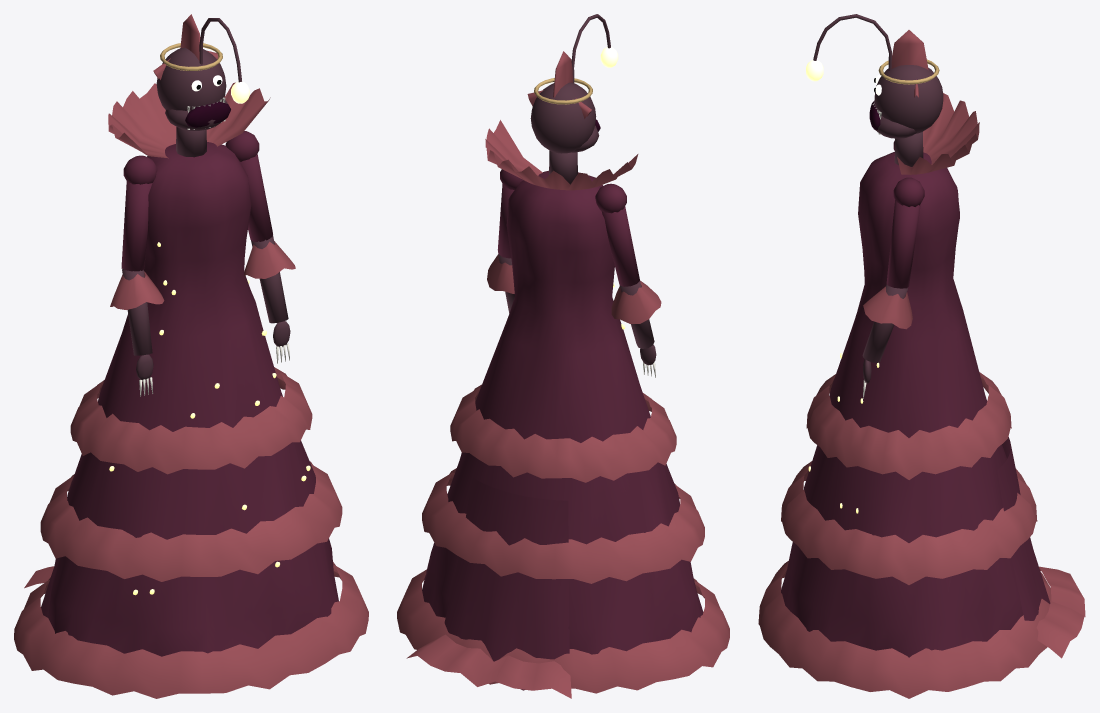
File: angler_queen.glb
The picture shows the model from 3 angles, left to right: view 1: azimuth 30°, elevation 25°; view 2: azimuth 150°, elevation 25°; view 3: azimuth 270°, elevation 25°; orthographic projection. The views are drawn at different scales.
Parts seen in each view (by area): view 1: Gown, Angler_Root_FinMembrane, Head_DeepSkin, ArmA_EelSkin, ArmB_EelSkin, ArmA_DeepSkin, ArmB_DeepSkin, SleeveFinArmA, SleeveFinArmB, Mouth, Head_FinMembrane; view 2: Gown, Angler_Root_FinMembrane, EelTrain, Head_DeepSkin, TrainFin, ArmA_EelSkin, SleeveFinArmA, ArmB_EelSkin, ArmA_DeepSkin, Head_FinMembrane, SleeveFinArmB; view 3: Gown, Angler_Root_FinMembrane, Head_DeepSkin, TrainFin, ArmB_EelSkin, EelTrain, SleeveFinArmB, ArmB_DeepSkin, Head_FinMembrane.
Part boxes in pixels (bbox=[...]): Gown: bbox=[41, 142, 338, 656]; Angler_Root_FinMembrane: bbox=[14, 82, 368, 698]; Head_DeepSkin: bbox=[156, 18, 241, 157]; ArmA_EelSkin: bbox=[121, 155, 157, 271]; ArmB_EelSkin: bbox=[225, 131, 272, 241]; ArmA_DeepSkin: bbox=[122, 269, 153, 380]; ArmB_DeepSkin: bbox=[251, 235, 290, 347]; SleeveFinArmA: bbox=[110, 271, 164, 309]; SleeveFinArmB: bbox=[244, 241, 295, 278]; Mouth: bbox=[185, 101, 230, 127]; Head_FinMembrane: bbox=[153, 14, 218, 79]; Gown: bbox=[422, 170, 703, 654]; Angler_Root_FinMembrane: bbox=[397, 120, 729, 693]; EelTrain: bbox=[444, 477, 569, 690]; Head_DeepSkin: bbox=[530, 14, 610, 184]; TrainFin: bbox=[406, 634, 571, 698]; ArmA_EelSkin: bbox=[595, 183, 639, 286]; SleeveFinArmA: bbox=[611, 280, 661, 323]; ArmB_EelSkin: bbox=[497, 169, 523, 258]; ArmA_DeepSkin: bbox=[620, 281, 656, 365]; Head_FinMembrane: bbox=[527, 51, 591, 118]; SleeveFinArmB: bbox=[487, 254, 514, 293]; Gown: bbox=[781, 151, 1023, 657]; Angler_Root_FinMembrane: bbox=[758, 93, 1051, 698]; Head_DeepSkin: bbox=[813, 14, 943, 166]; TrainFin: bbox=[1036, 566, 1085, 658]; ArmB_EelSkin: bbox=[886, 177, 924, 288]; EelTrain: bbox=[997, 437, 1050, 620]; SleeveFinArmB: bbox=[863, 286, 912, 329]; ArmB_DeepSkin: bbox=[862, 284, 907, 383]; Head_FinMembrane: bbox=[891, 30, 928, 97].
Size of the model in its own units: 0.94 by 1.79 by 0.8675.
